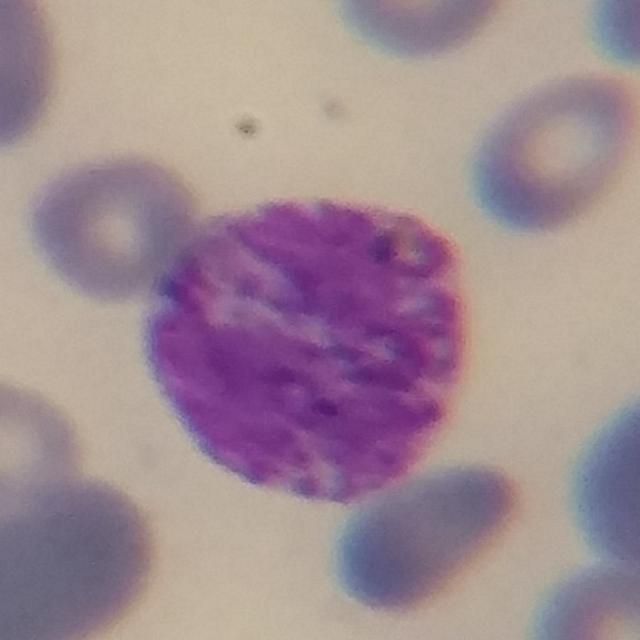Basophil: (128, 182, 486, 510)
RBC: (324, 451, 541, 623), (461, 64, 640, 240), (18, 146, 207, 307), (0, 468, 170, 640), (556, 390, 638, 588), (0, 369, 91, 513), (326, 0, 519, 65), (0, 0, 71, 160), (520, 556, 640, 640), (579, 0, 640, 77)
